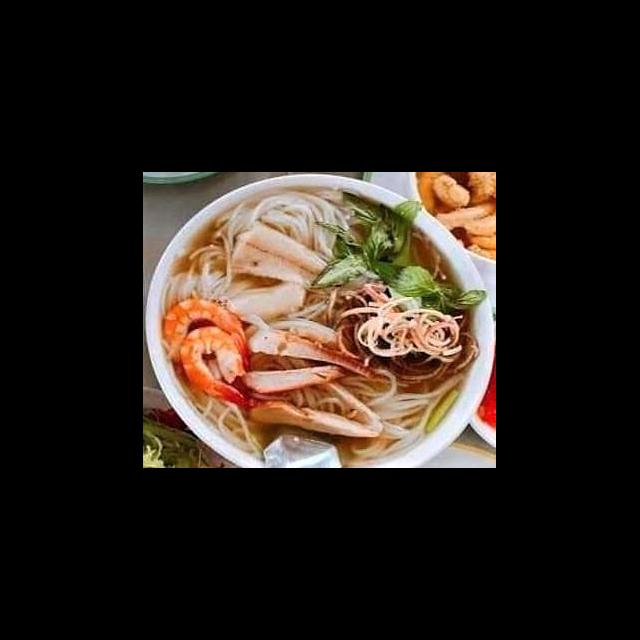bun: (158, 181, 364, 307), (294, 366, 476, 465), (172, 380, 270, 462)
ca: (224, 217, 338, 289), (222, 274, 314, 322)
thit heo quay: (244, 323, 380, 381), (240, 359, 362, 397)
tom: (157, 294, 256, 375), (175, 321, 252, 410)
